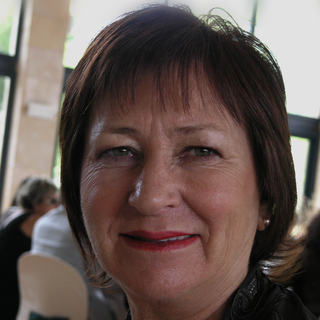eye: (172, 140, 228, 164), (96, 141, 144, 166)
